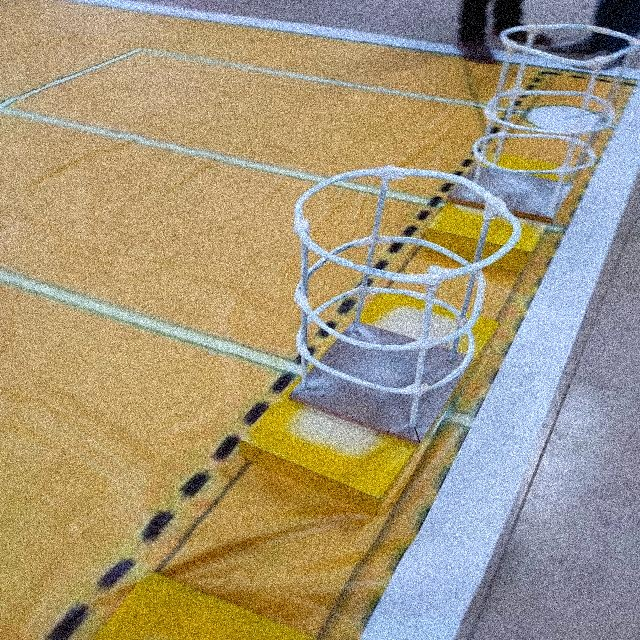silo: (242, 147, 538, 455), (453, 16, 640, 222)
